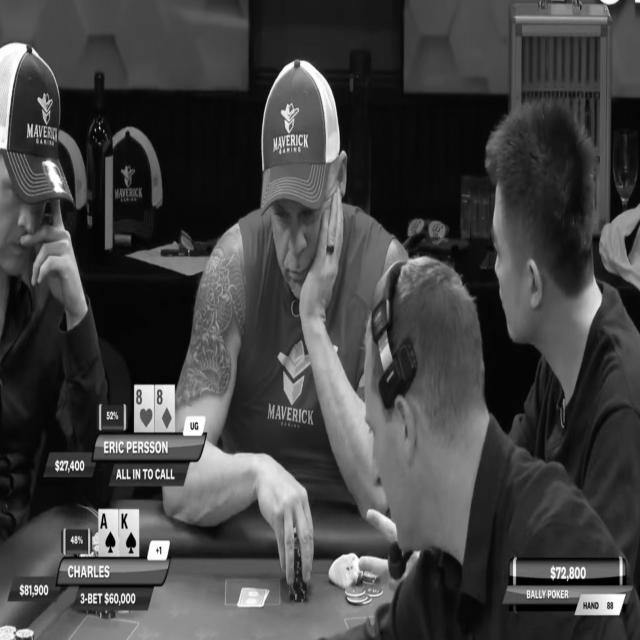8D: (155, 386, 175, 429)
8H: (133, 384, 155, 431)
AS: (98, 510, 120, 554)
KS: (118, 510, 138, 554)
